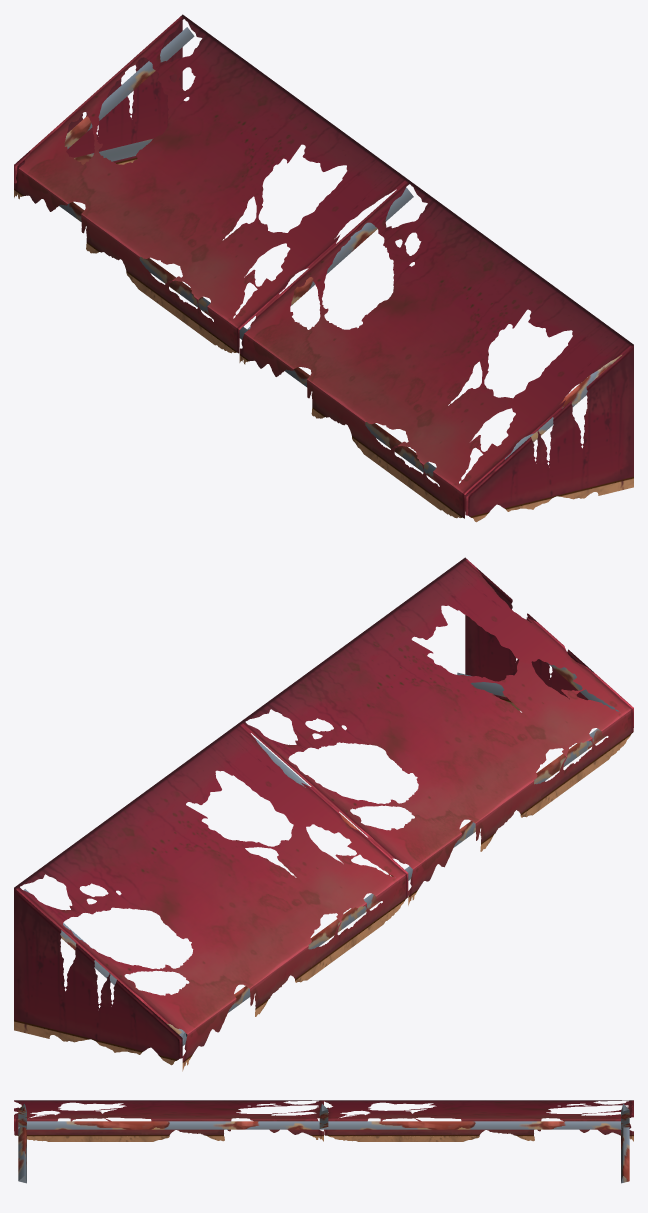
The model's file is awning01_6m.fbx.
3 views of the same model, one above another, from view 1: azimuth 30°, elevation 25°; view 2: azimuth 150°, elevation 25°; view 3: azimuth 270°, elevation 25° (orthographic). The views are drawn at different scales.
Visible parts, largest first — view 1: awning01_6m; view 2: awning01_6m; view 3: awning01_6m.
Boxes of the visible parts, x1,y1,x2,y2 form: awning01_6m: (14,14,633,522); awning01_6m: (14,557,633,1071); awning01_6m: (14,1100,633,1183).
Size of the model in its own units: 132 by 105 by 602.
